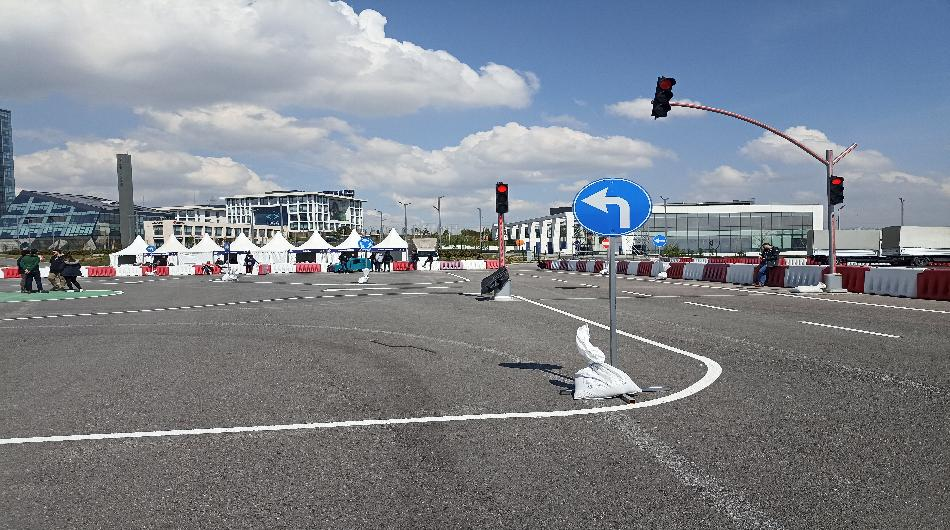ada: (354, 237, 379, 253)
red_light: (491, 182, 512, 213), (826, 173, 844, 203)
saga_mecburi_1: (646, 232, 671, 251)
sola_mecburi_2: (573, 174, 652, 237)
